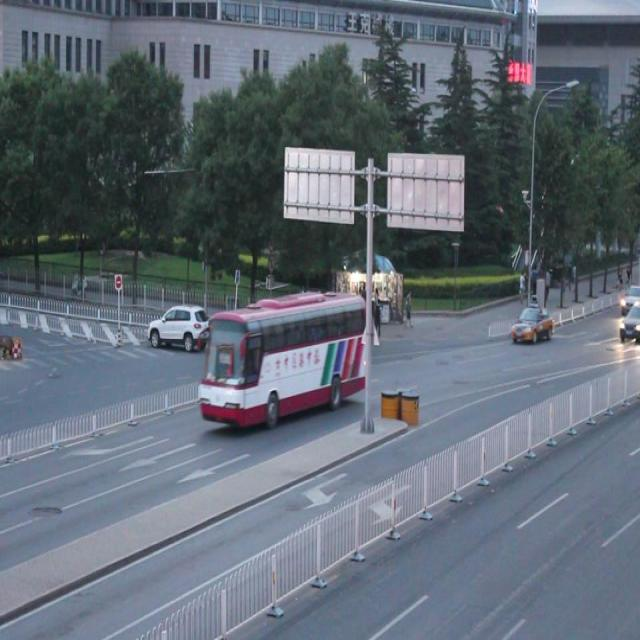car: (149, 307, 215, 358), (512, 303, 554, 342), (614, 305, 640, 341), (618, 280, 640, 309)
van: (200, 288, 367, 422)
